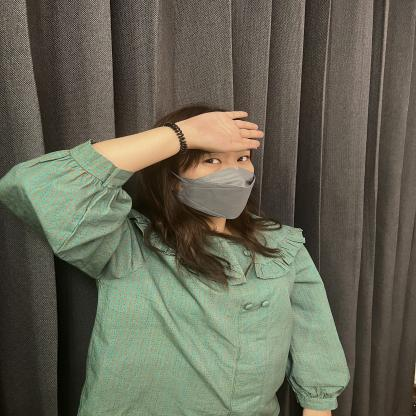Sick: (13, 59, 386, 195)
